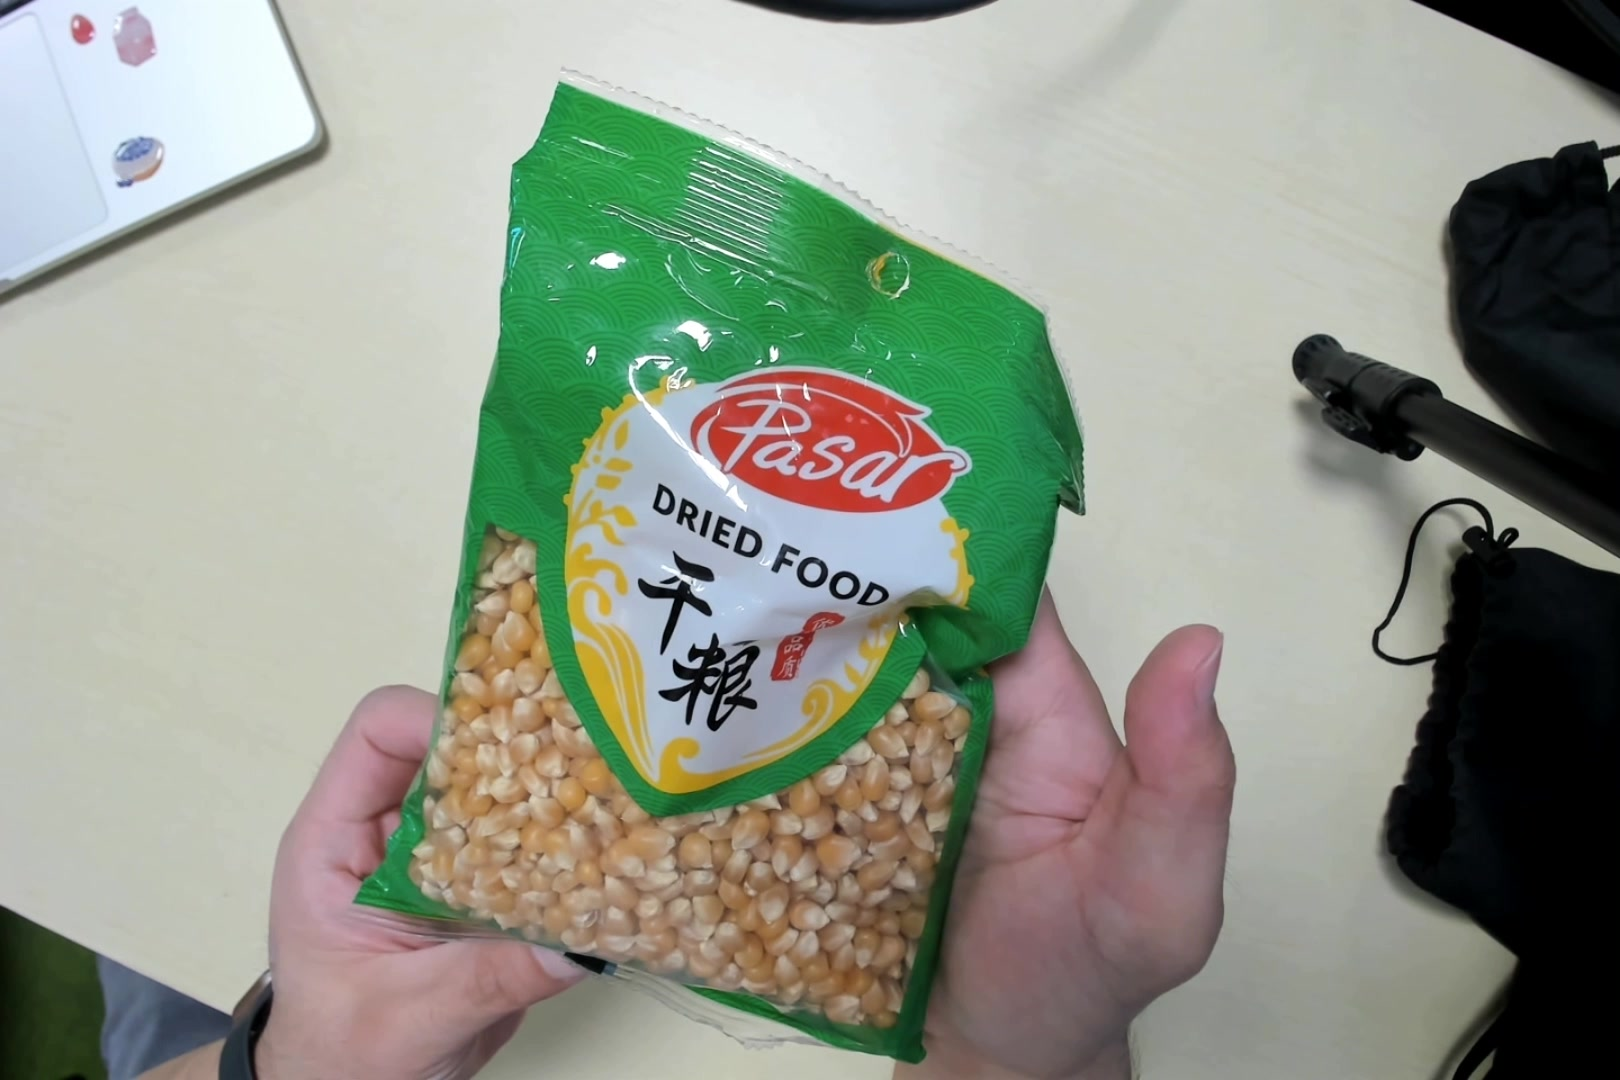DriedBeans(RedGreenSdy)_400-499g_NonHalal_NonHealthy: (358, 76, 1086, 1080)
